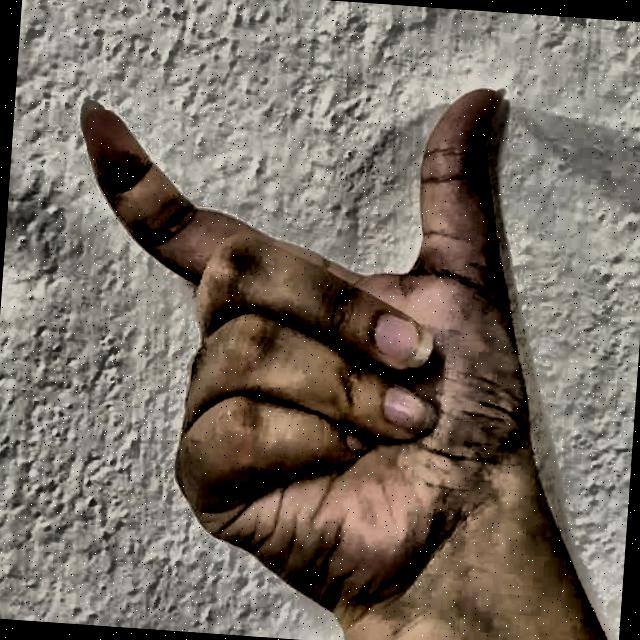ChandraBindu: (30, 11, 589, 640)
